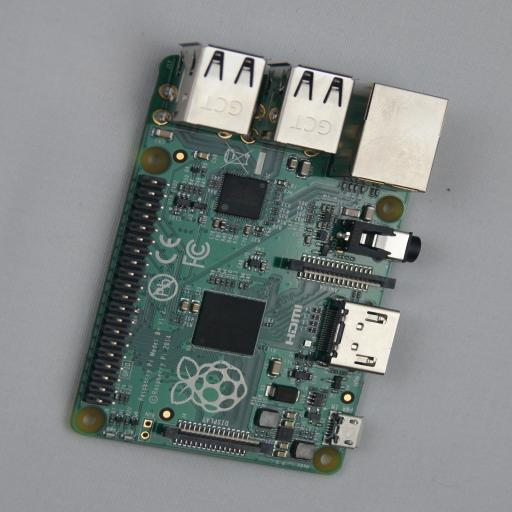Raspberry Pi 1 B-: (65, 42, 450, 475)
